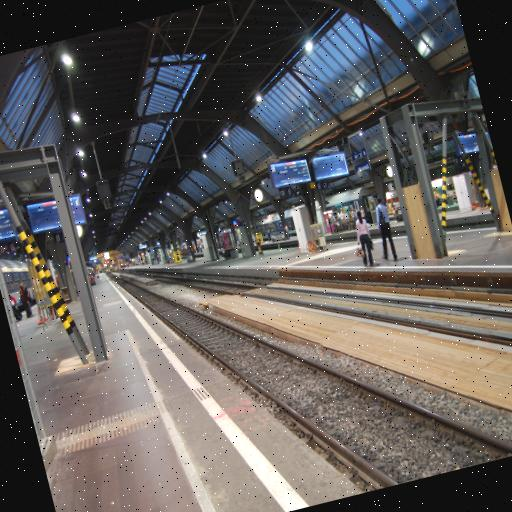platform_edge: (148, 303, 357, 512), (102, 262, 164, 336)
